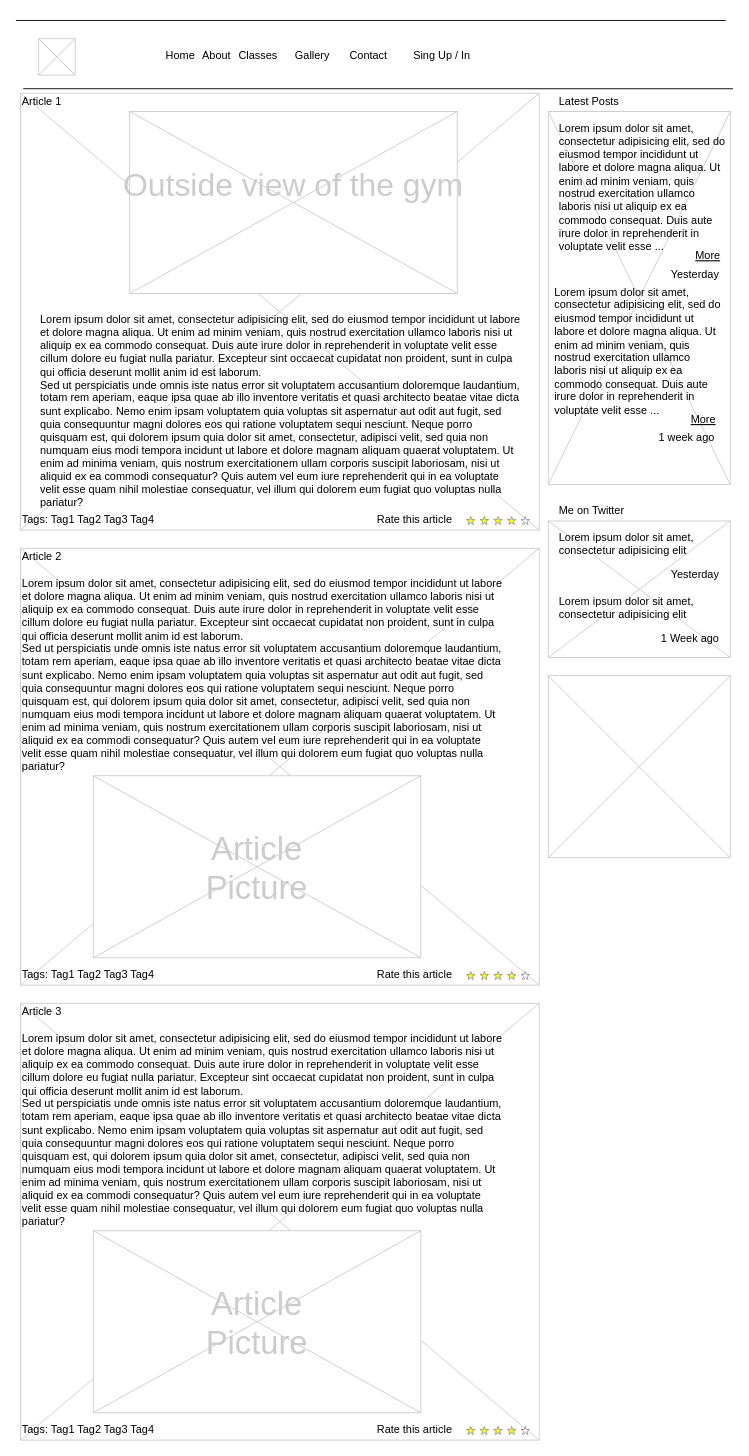
The diagram is 749 pixels wide and 1456 high, and some of its shapes have lost their labels. The shapes that lost their labels are listed below. From the top down, each one's centre as x and y in pixels, then its label:
At pixel 56 56: "GYM4U Logo".
At pixel 638 766: "Tag Cloud".
